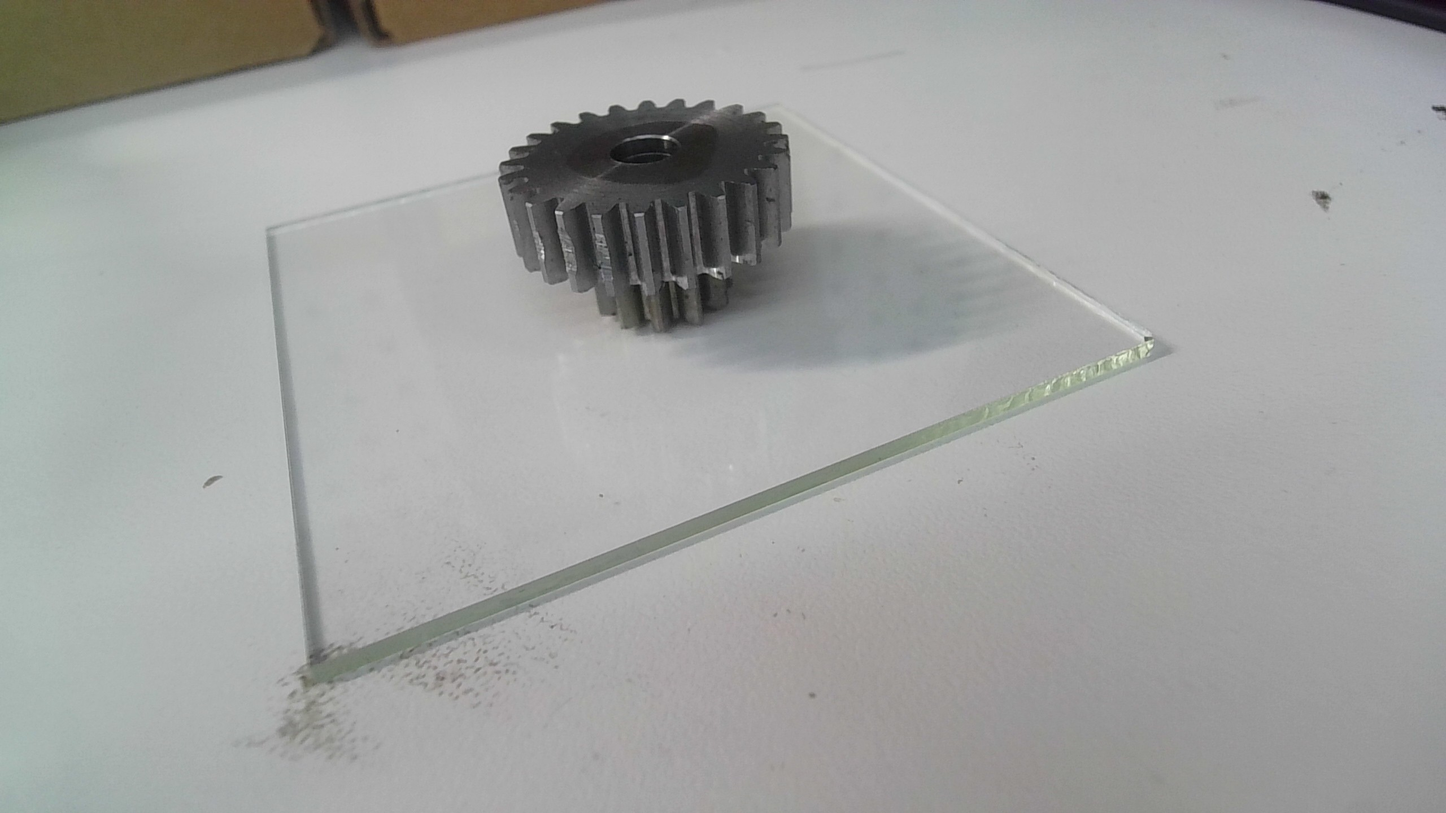gear: (495, 96, 800, 340)
